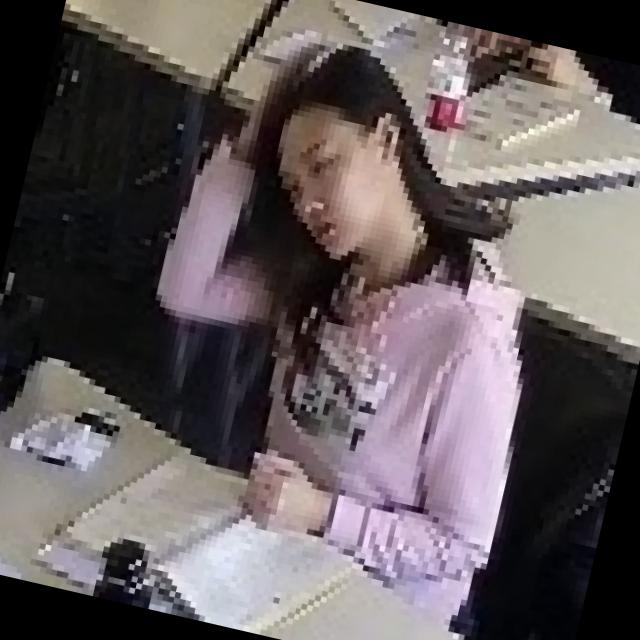trance: (104, 13, 601, 640)
